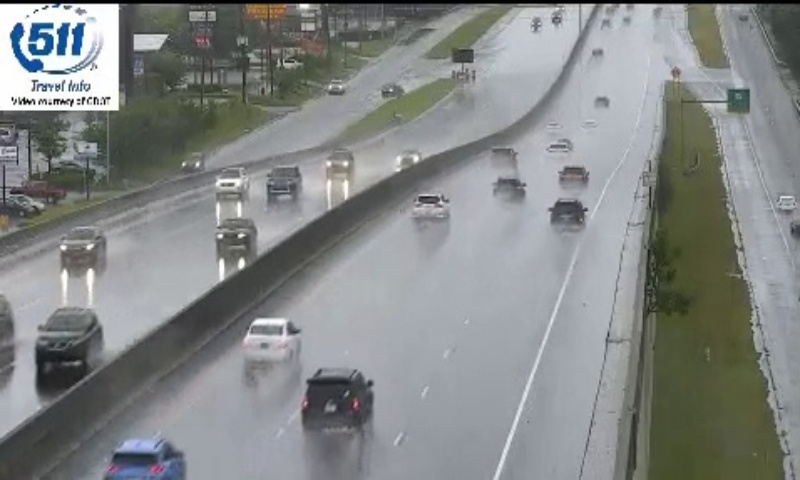car: (301, 367, 373, 430), (107, 440, 185, 480), (242, 318, 299, 365), (411, 192, 450, 222), (550, 198, 586, 228), (493, 177, 525, 203), (558, 165, 589, 190)
